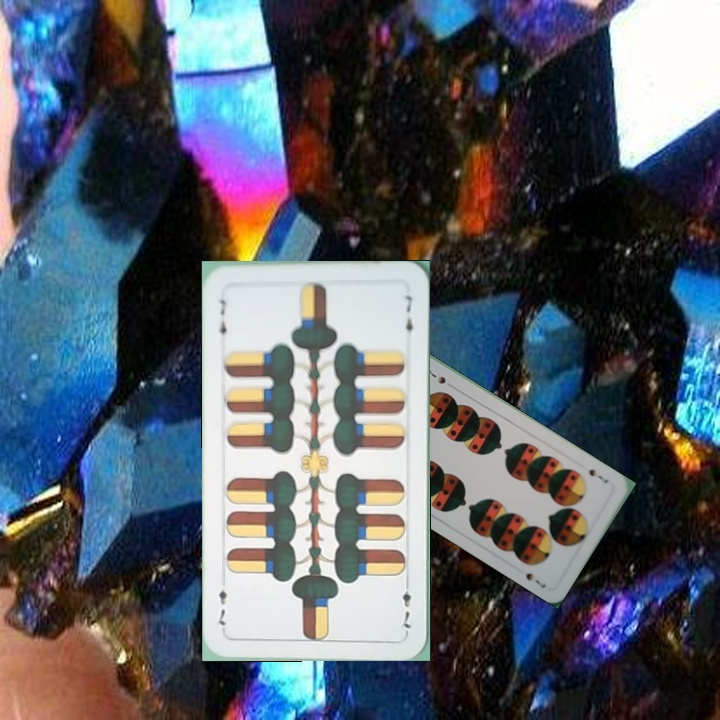E7: (397, 575, 414, 634), (215, 296, 229, 345)
S7: (585, 465, 611, 486)
